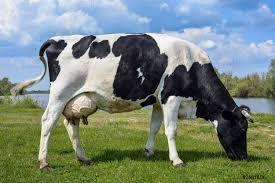cow: (39, 34, 249, 169)
